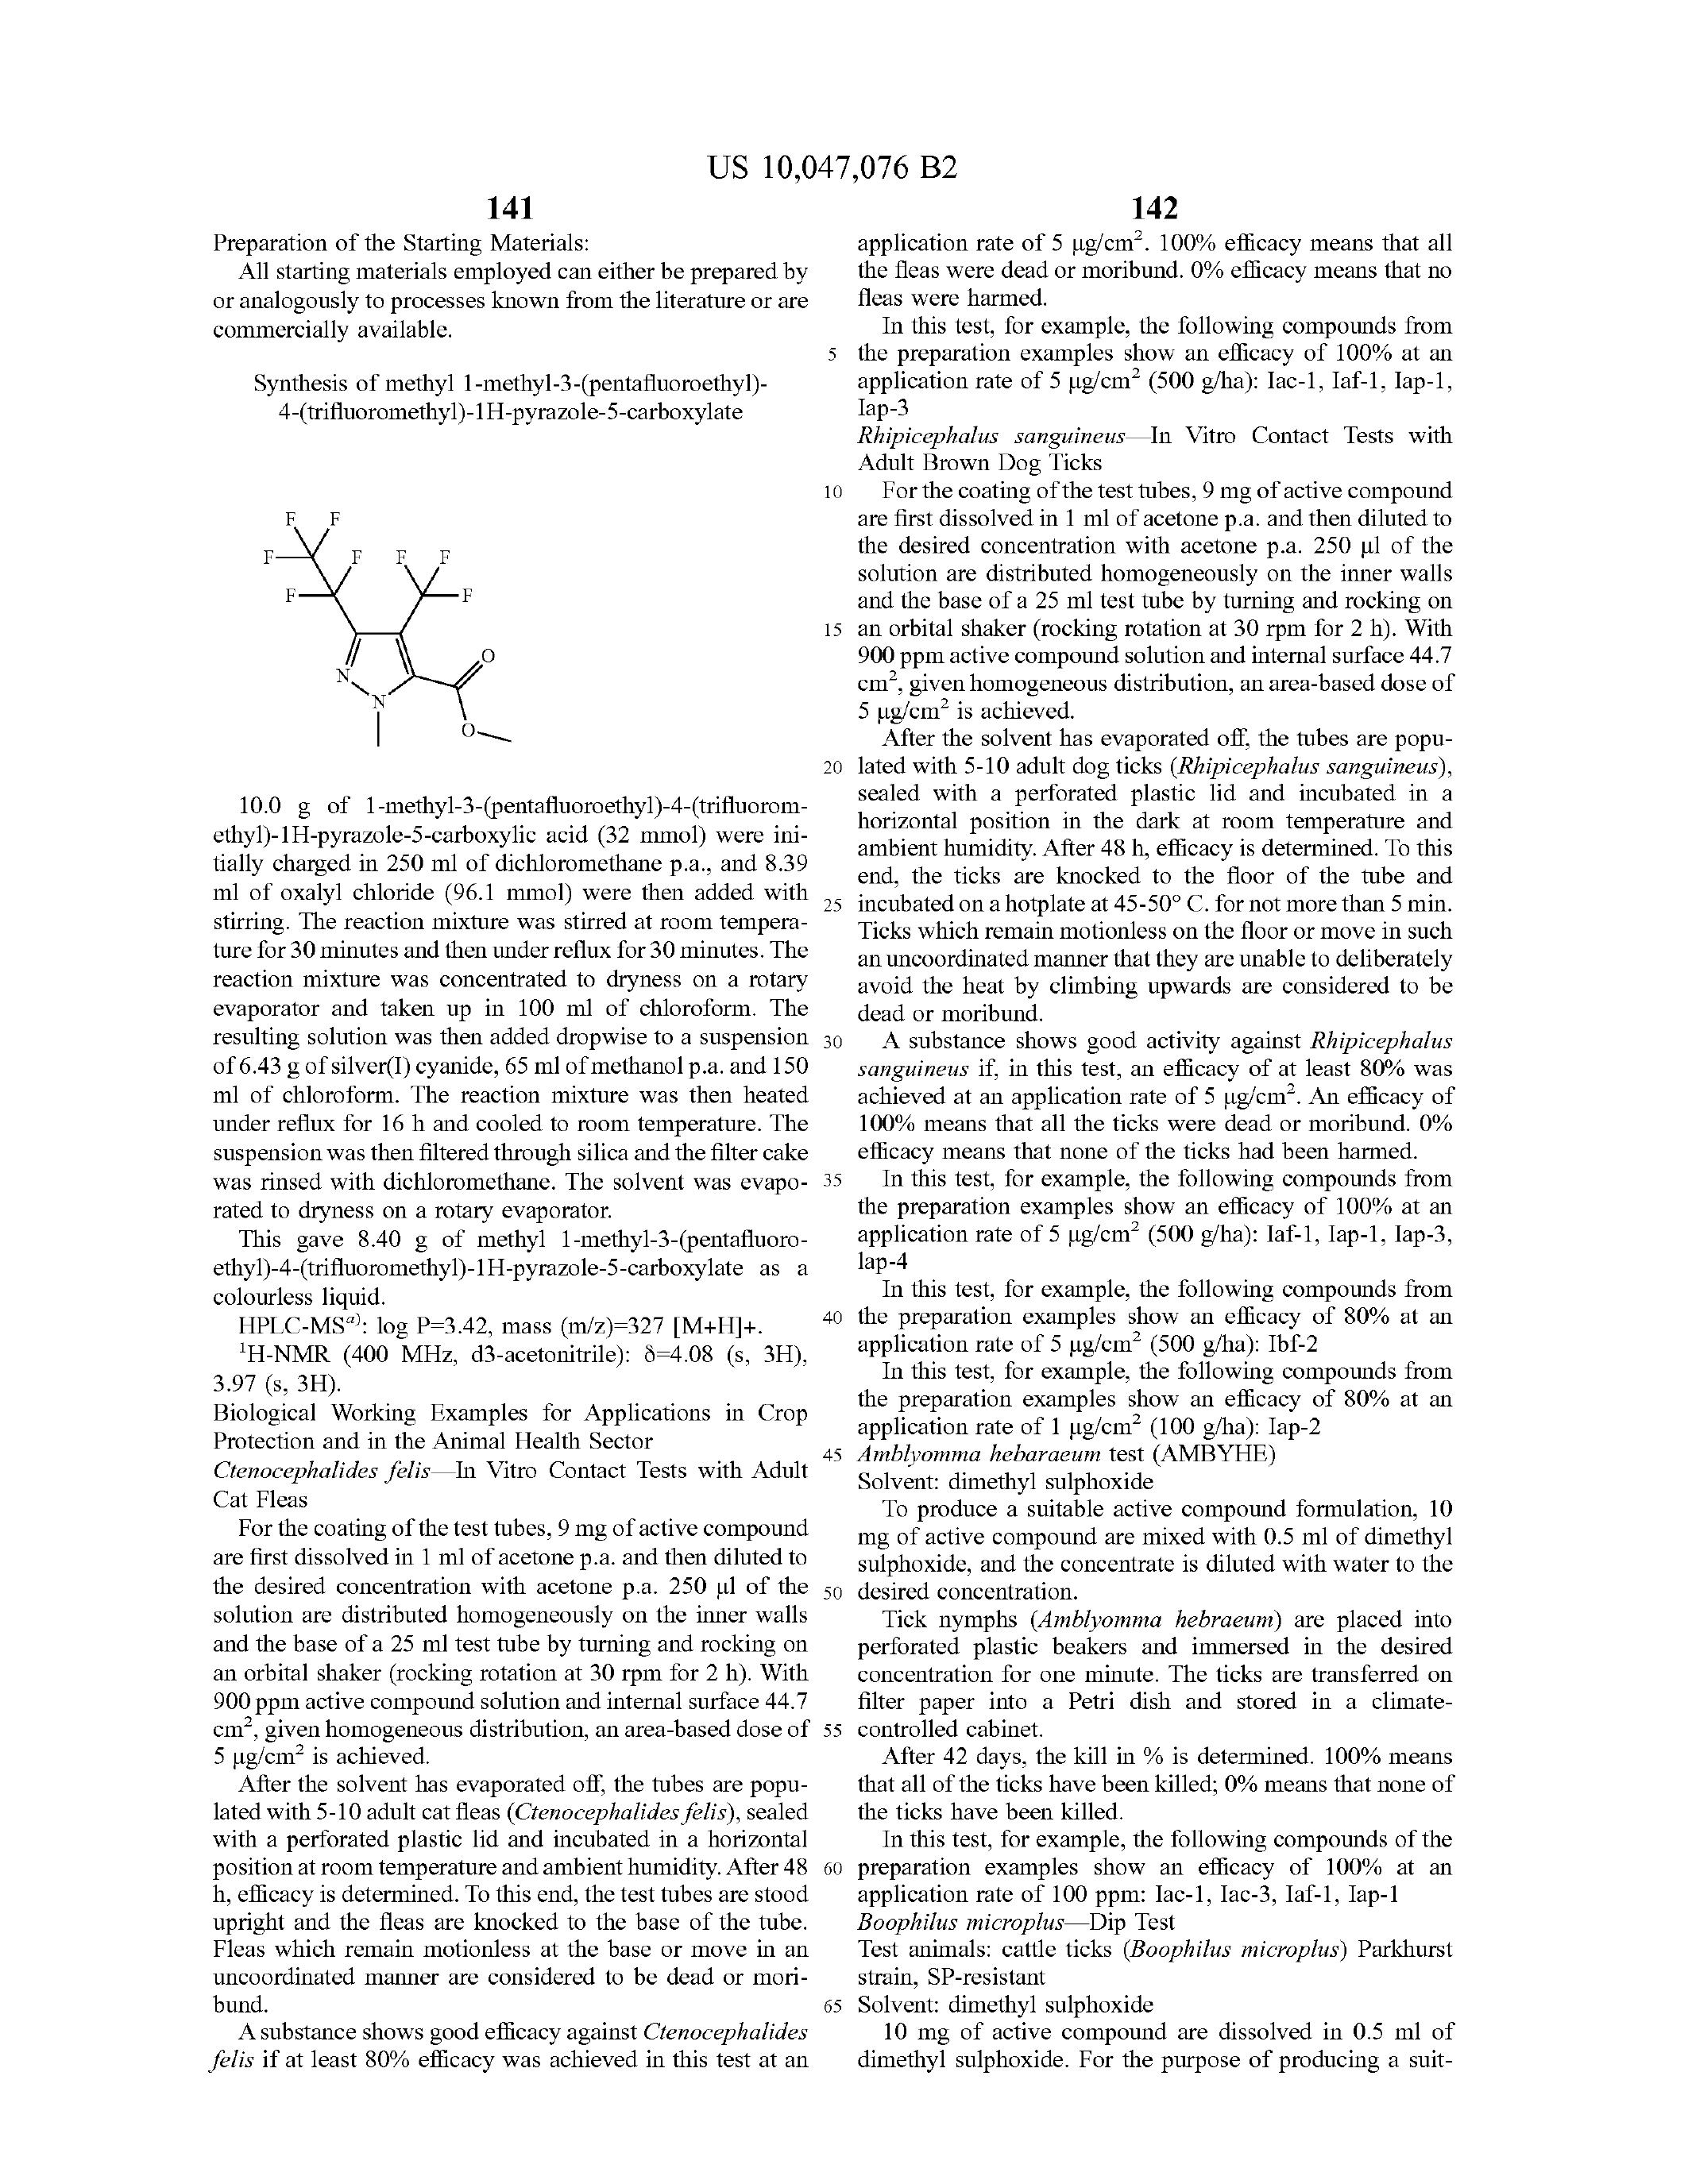reactions: (231, 358, 817, 1303)
